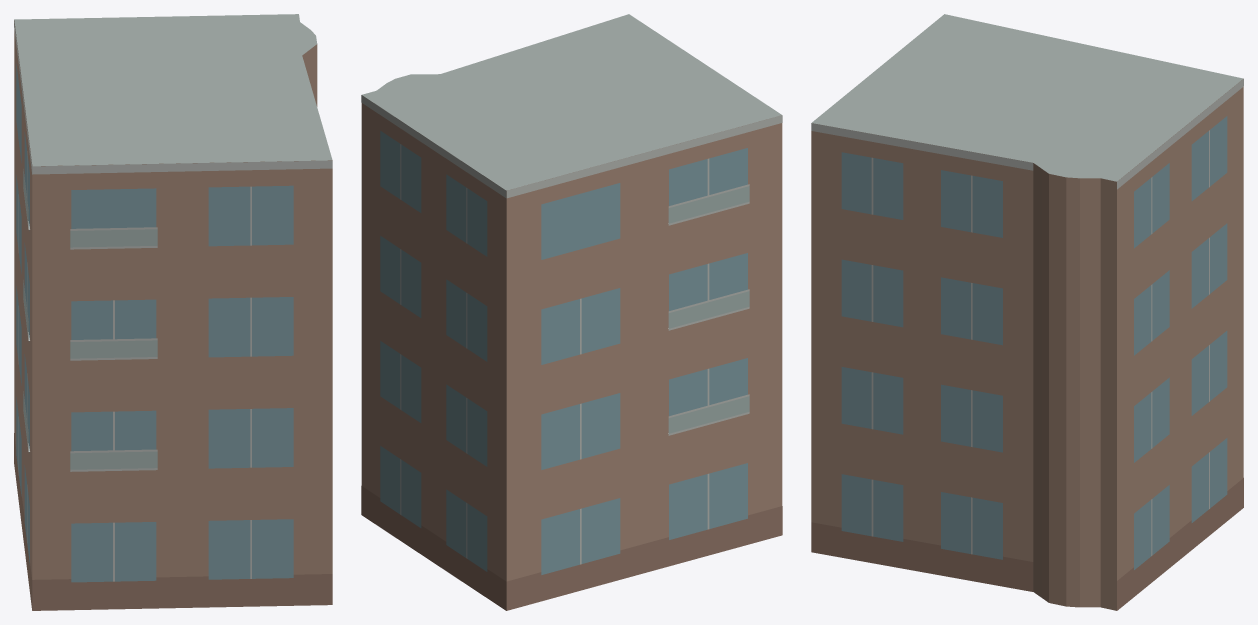
The model's file is survey-upis-32724537.glb.
3 renders of one model, left to right at view 1: azimuth 30°, elevation 25°; view 2: azimuth 150°, elevation 25°; view 3: azimuth 270°, elevation 25°, orthographic. The views are drawn at different scales.
Parts seen in each view (by area): view 1: survey-upis-32724537.tmp; view 2: survey-upis-32724537.tmp; view 3: survey-upis-32724537.tmp.
Part boxes in pixels (left/top/right/bottom): survey-upis-32724537.tmp: left=14, top=14, right=332, bottom=610; survey-upis-32724537.tmp: left=361, top=14, right=782, bottom=610; survey-upis-32724537.tmp: left=811, top=14, right=1243, bottom=610.
Bounding box in the file's own units: 11.07 × 13.2 × 12.06.
